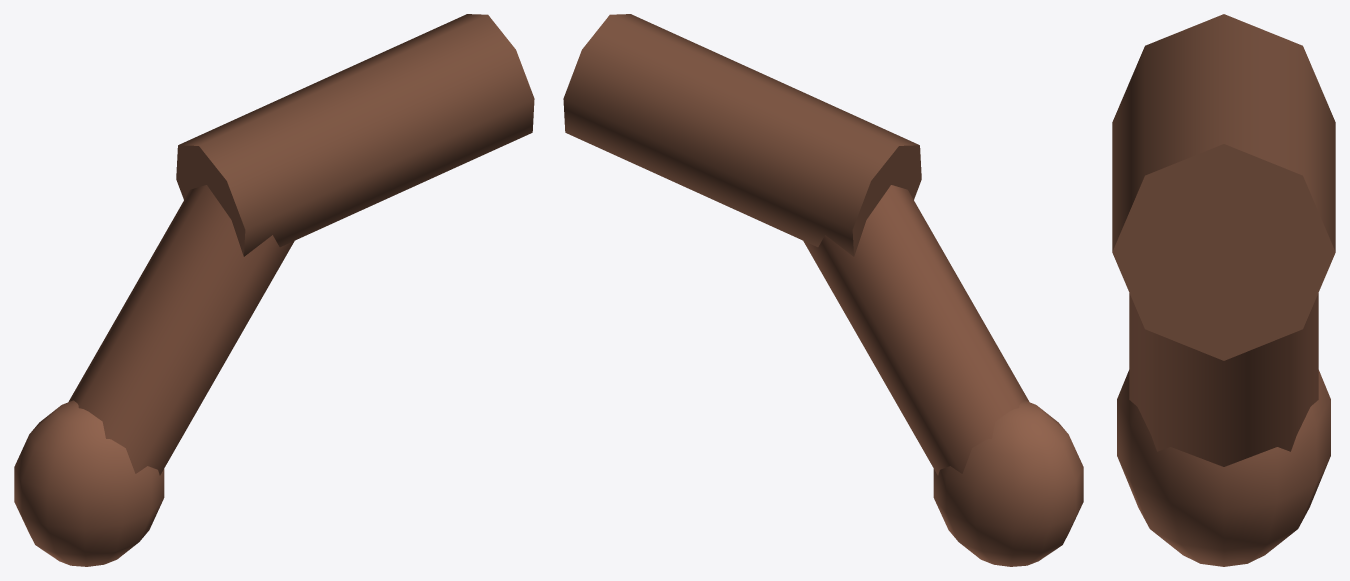
The model's file is cutehand.glb.
3 renders of one model, left to right at view 1: azimuth 30°, elevation 25°; view 2: azimuth 150°, elevation 25°; view 3: azimuth 270°, elevation 25°, orthographic. The views are drawn at different scales.
Visible parts, largest first — view 1: _MeshInstance3D_7, _MeshInstance3D_8, _MeshInstance3D_9; view 2: _MeshInstance3D_7, _MeshInstance3D_8, _MeshInstance3D_9; view 3: _MeshInstance3D_7, _MeshInstance3D_9, _MeshInstance3D_8.
Part boxes in pixels (bbox=[...]): _MeshInstance3D_7: bbox=[176, 14, 534, 256]; _MeshInstance3D_8: bbox=[68, 185, 294, 475]; _MeshInstance3D_9: bbox=[14, 400, 164, 566]; _MeshInstance3D_7: bbox=[563, 14, 921, 256]; _MeshInstance3D_8: bbox=[803, 185, 1029, 475]; _MeshInstance3D_9: bbox=[933, 400, 1083, 566]; _MeshInstance3D_7: bbox=[1112, 14, 1335, 360]; _MeshInstance3D_9: bbox=[1117, 370, 1330, 566]; _MeshInstance3D_8: bbox=[1129, 293, 1318, 466].
Size of the model in its own units: 0.5314 by 0.4664 by 0.13.
